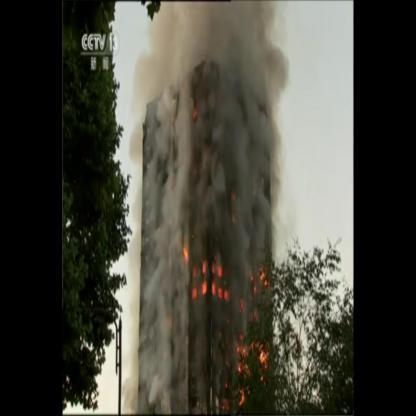smoke: (206, 124, 274, 314), (151, 117, 196, 402), (168, 55, 290, 119), (150, 0, 289, 54), (128, 125, 140, 398), (132, 54, 164, 113)
